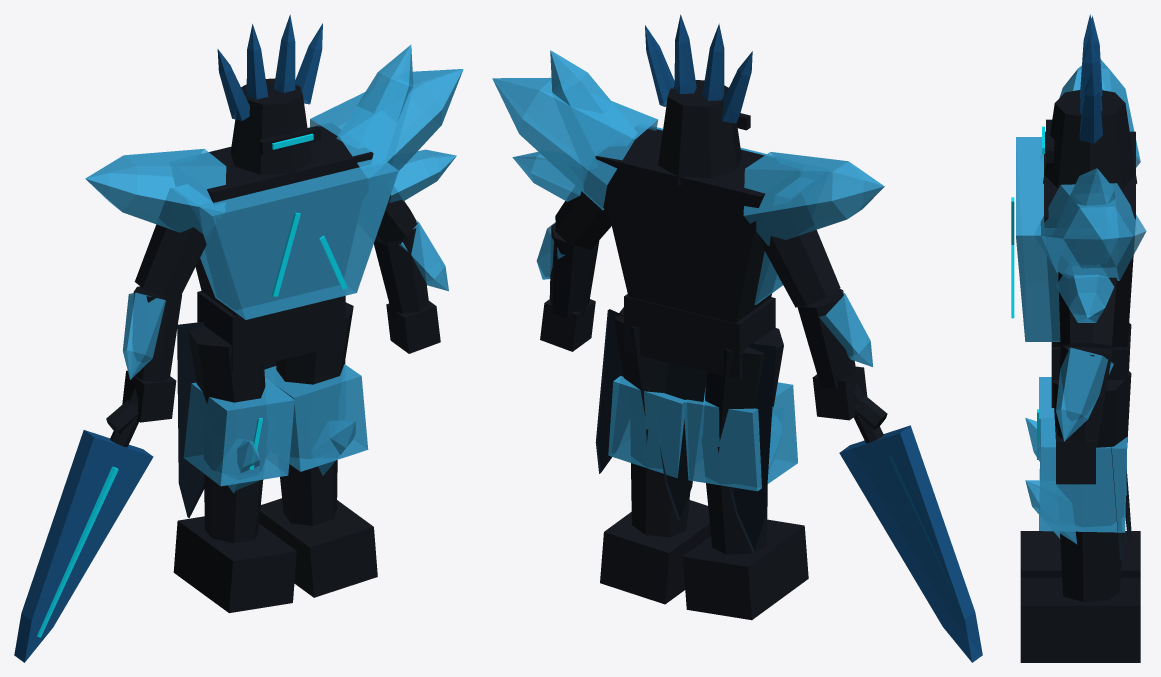
Rendered from ice_boss.obj.
The picture shows the model from 3 angles, left to right: view 1: azimuth 30°, elevation 25°; view 2: azimuth 150°, elevation 25°; view 3: azimuth 270°, elevation 25°; orthographic projection. The views are drawn at different scales.
Visible parts, largest first — view 1: InnerFrame, GlacierArmor, Greatsword, Helmet, Crown, TatteredCoat, ArmorCracks, SwordCore, GreatswordGrip; view 2: InnerFrame, GlacierArmor, Greatsword, TatteredCoat, Helmet, Crown, GreatswordGrip; view 3: InnerFrame, GlacierArmor, Helmet, Crown, TatteredCoat, ArmorCracks.
Boxes of the visible parts, bbox=[...] form: InnerFrame: bbox=[122, 123, 440, 613]; GlacierArmor: bbox=[85, 44, 463, 493]; Greatsword: bbox=[14, 430, 153, 662]; Helmet: bbox=[230, 78, 320, 181]; Crown: bbox=[217, 14, 322, 120]; TatteredCoat: bbox=[177, 321, 345, 517]; ArmorCracks: bbox=[248, 212, 347, 469]; SwordCore: bbox=[37, 466, 118, 637]; GreatswordGrip: bbox=[106, 388, 138, 447]; InnerFrame: bbox=[540, 127, 867, 620]; GlacierArmor: bbox=[492, 50, 884, 491]; Greatsword: bbox=[839, 425, 982, 662]; TatteredCoat: bbox=[595, 309, 776, 551]; Helmet: bbox=[658, 80, 750, 185]; Crown: bbox=[645, 14, 752, 123]; GreatswordGrip: bbox=[853, 383, 887, 443]; InnerFrame: bbox=[1020, 131, 1140, 662]; GlacierArmor: bbox=[1016, 59, 1146, 544]; Helmet: bbox=[1043, 90, 1137, 189]; Crown: bbox=[1079, 14, 1102, 143]; TatteredCoat: bbox=[1107, 390, 1132, 560]; ArmorCracks: bbox=[1011, 197, 1039, 459].
Size of the model in its own units: 4.88 by 5.78 by 1.15.
